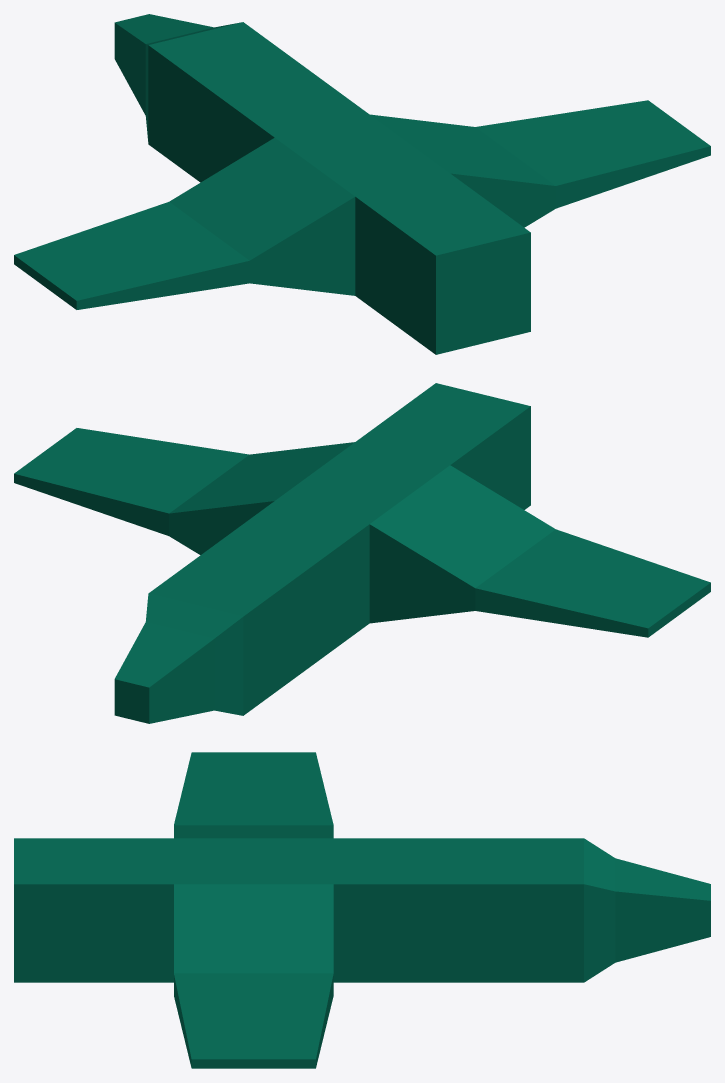
File: AirPlene.fbx
3 views of the same model, one above another, from view 1: azimuth 30°, elevation 25°; view 2: azimuth 150°, elevation 25°; view 3: azimuth 270°, elevation 25° (orthographic).
Parts seen in each view (by area): view 1: pCube1; view 2: pCube1; view 3: pCube1.
Part boxes in pixels (bbox=[...]): pCube1: bbox=[14, 14, 710, 354]; pCube1: bbox=[14, 383, 710, 723]; pCube1: bbox=[14, 752, 710, 1068].
Bounding box in the file's own units: 6.68 × 1 × 6.42.
